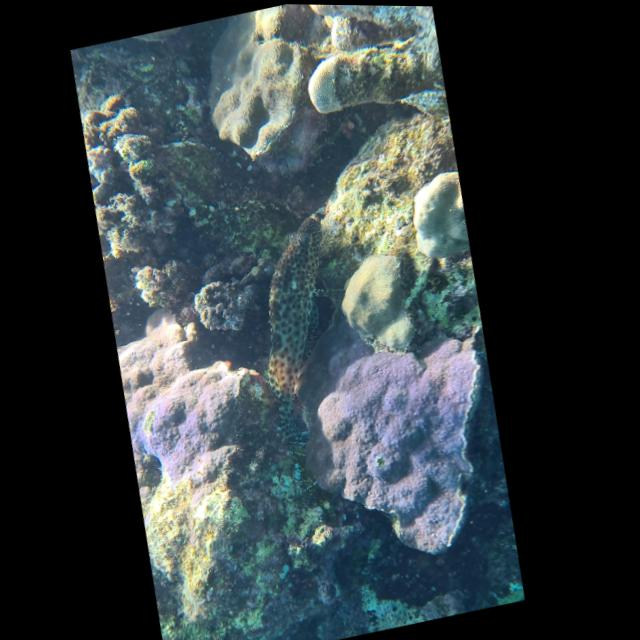Groupers: (222, 208, 370, 452)
